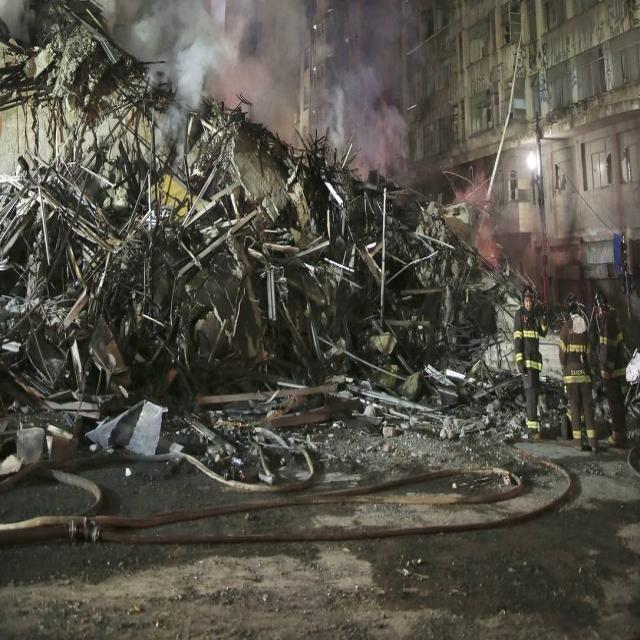Smoke: (128, 26, 410, 162)
